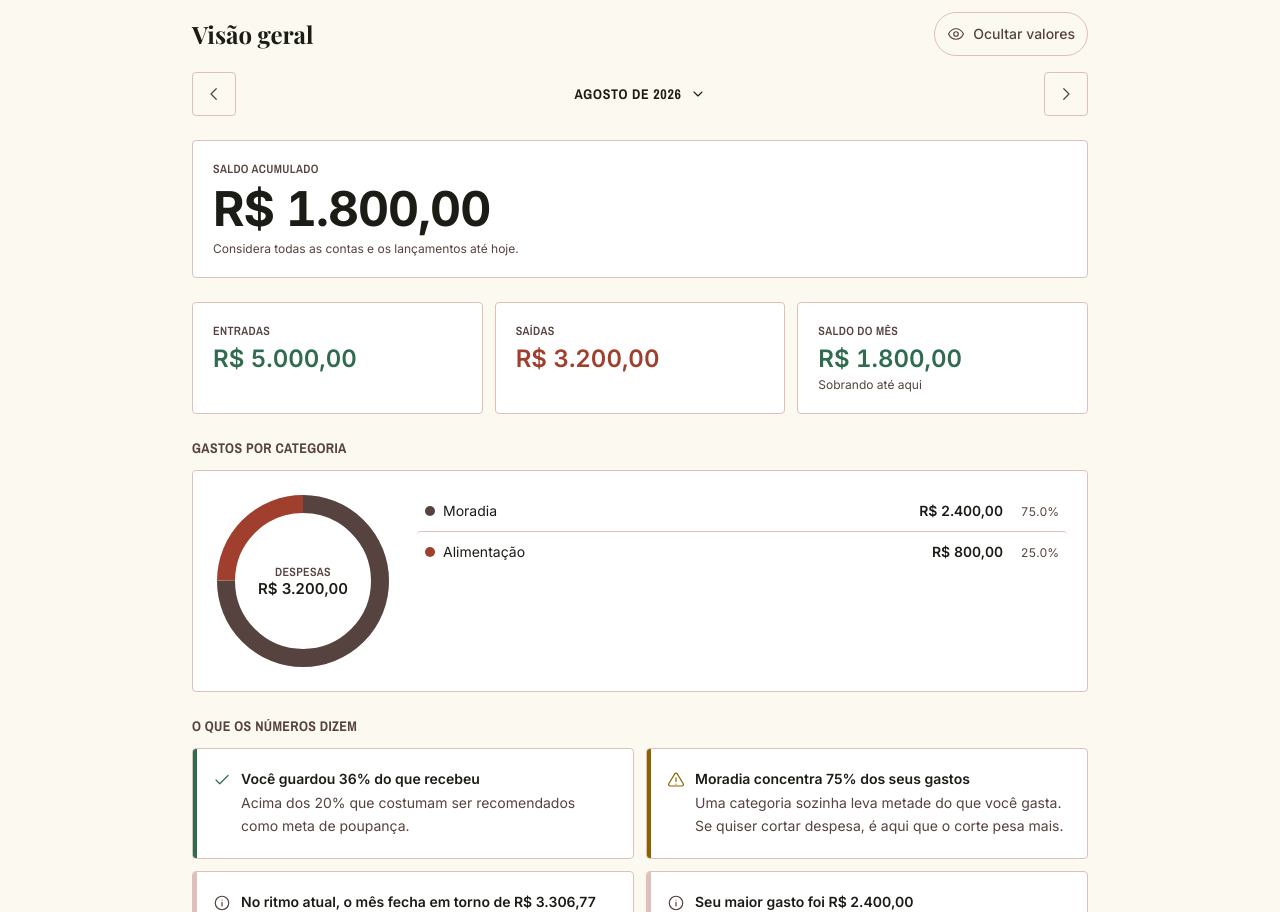
Test case: navegação entre meses (FR-012) › recalcula os indicadores ao trocar de mês
Expected: the heading "Visão geral" is shown, top-left (192, 18), bottom-right (314, 50)
Expected: the text "Agosto de 2026" is shown, top-left (574, 84), bottom-right (682, 104)
Click the button named "Mês anterior" at {"x": 214, "y": 94}, box top-left (192, 72), bottom-right (236, 116)
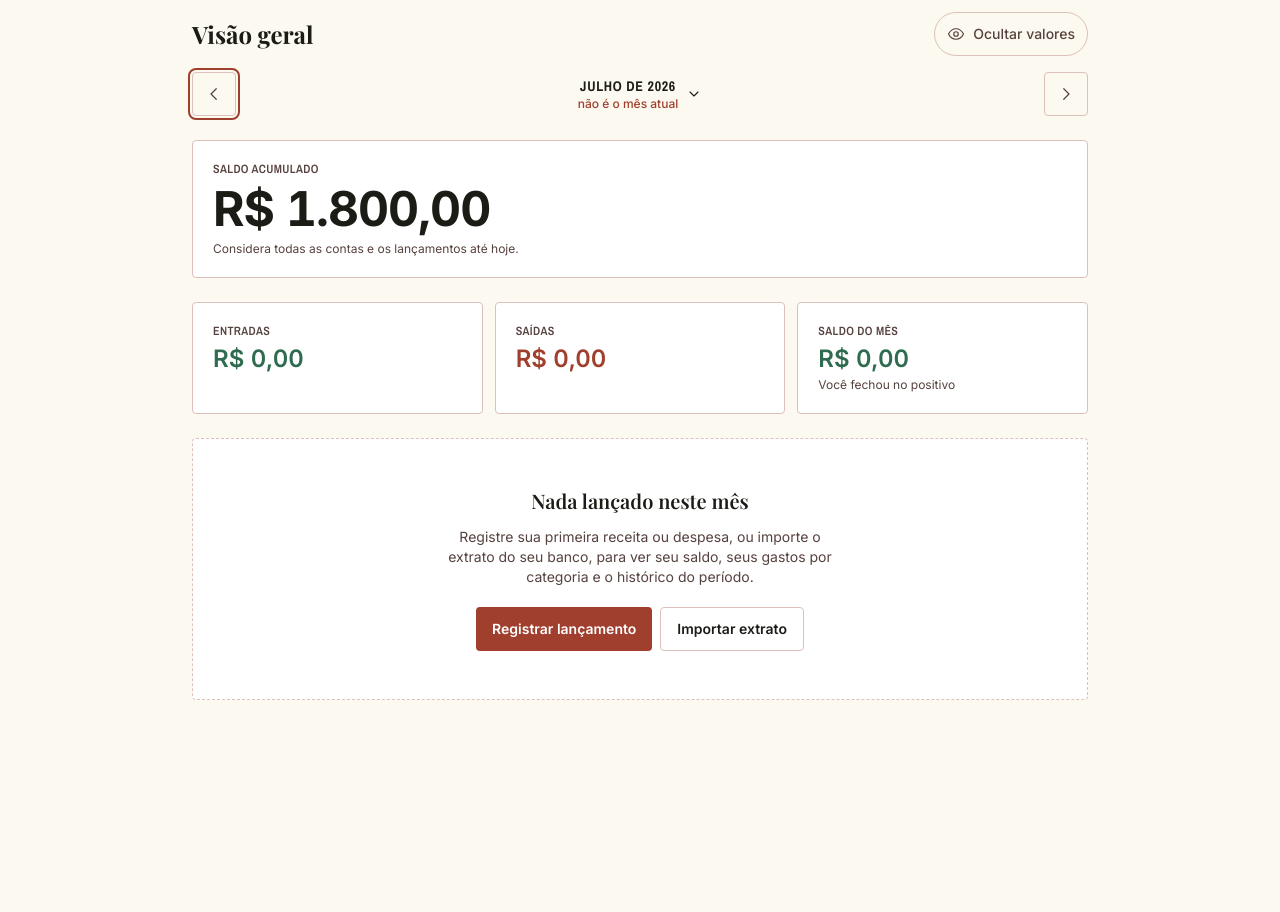
Expected: the heading "Nada lançado neste mês" is shown, top-left (531, 487), bottom-right (749, 515)
